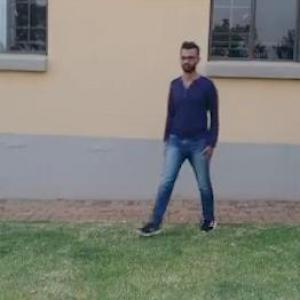follow: (164, 42, 220, 232)
